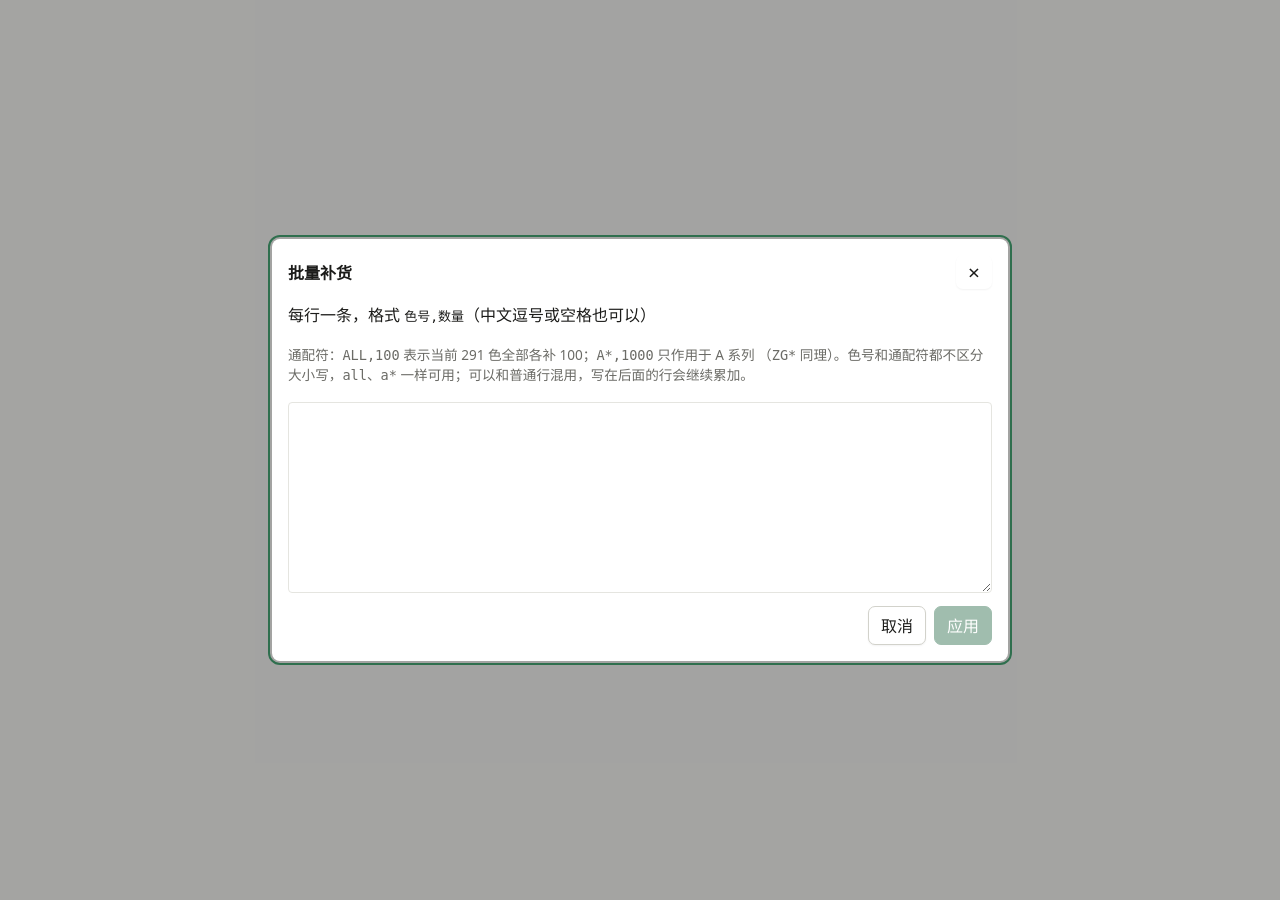
Test: BatchDialog · ALL wildcard › a series nothing matches is rejected instead of applying as a no-op
The image size is (1280, 900).
Type "X*,5" into the text box named "批量输入" at (640, 498), box [288, 402, 992, 593]
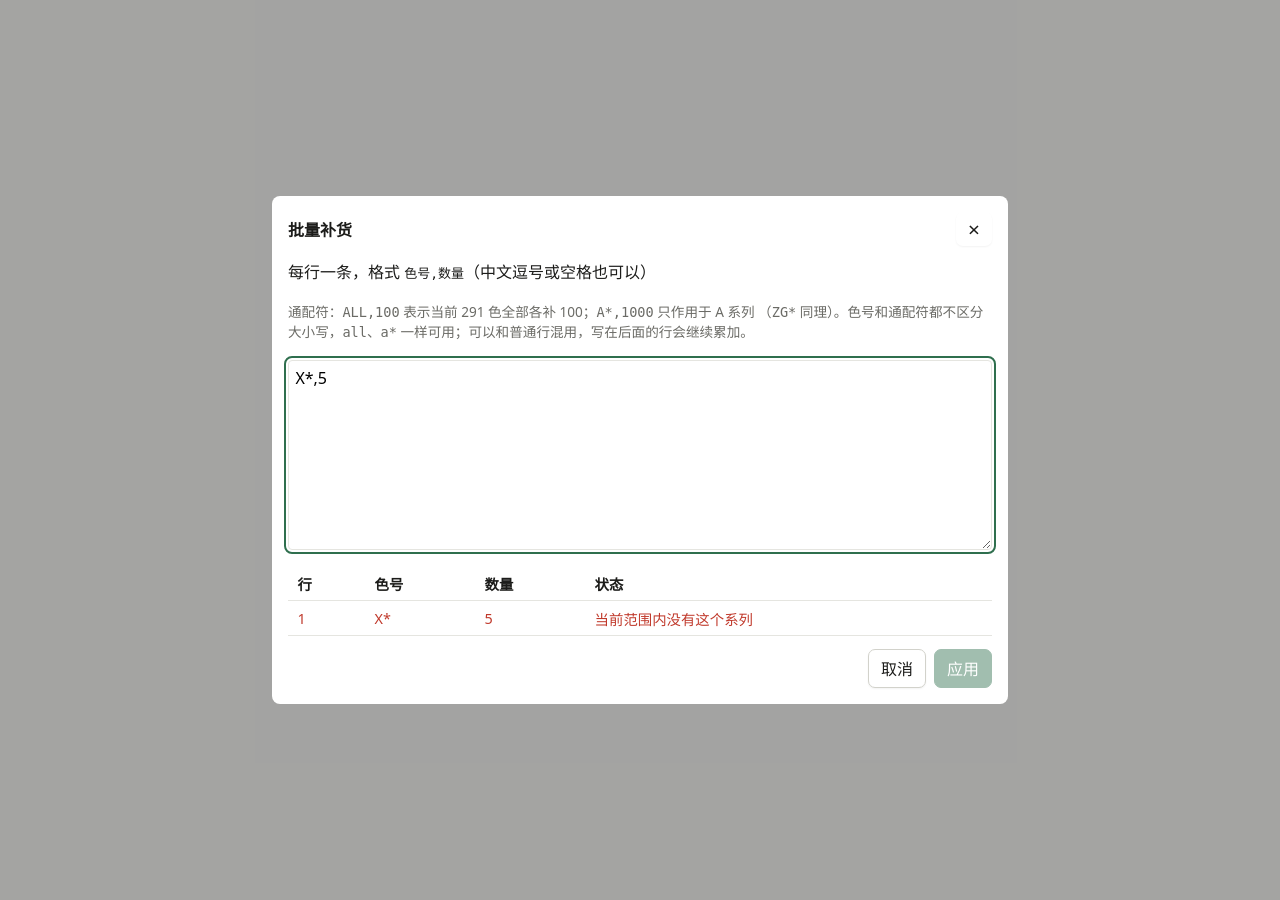
expect the button "应用" is disabled: met, box [934, 649, 992, 688]
expect the row "1 X* 5 当前范围内没有这个系列" is shown: met, box [288, 601, 992, 636]
